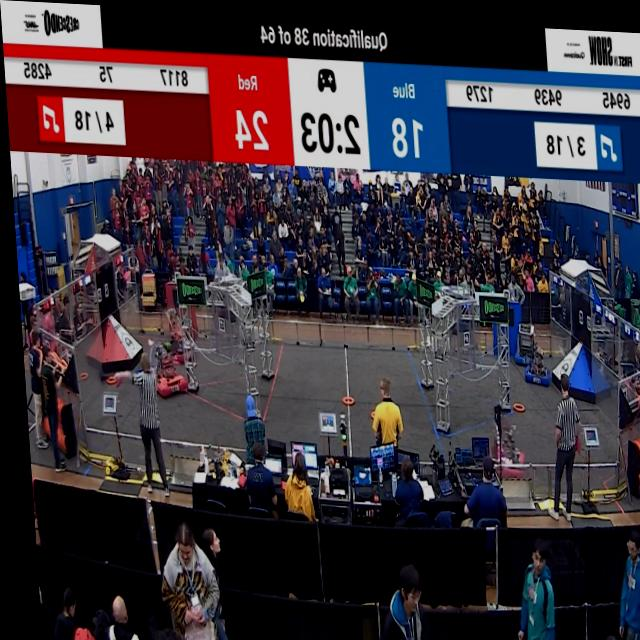Robot: (482, 384, 525, 476), (144, 324, 182, 401), (519, 331, 549, 385), (506, 316, 528, 363)
